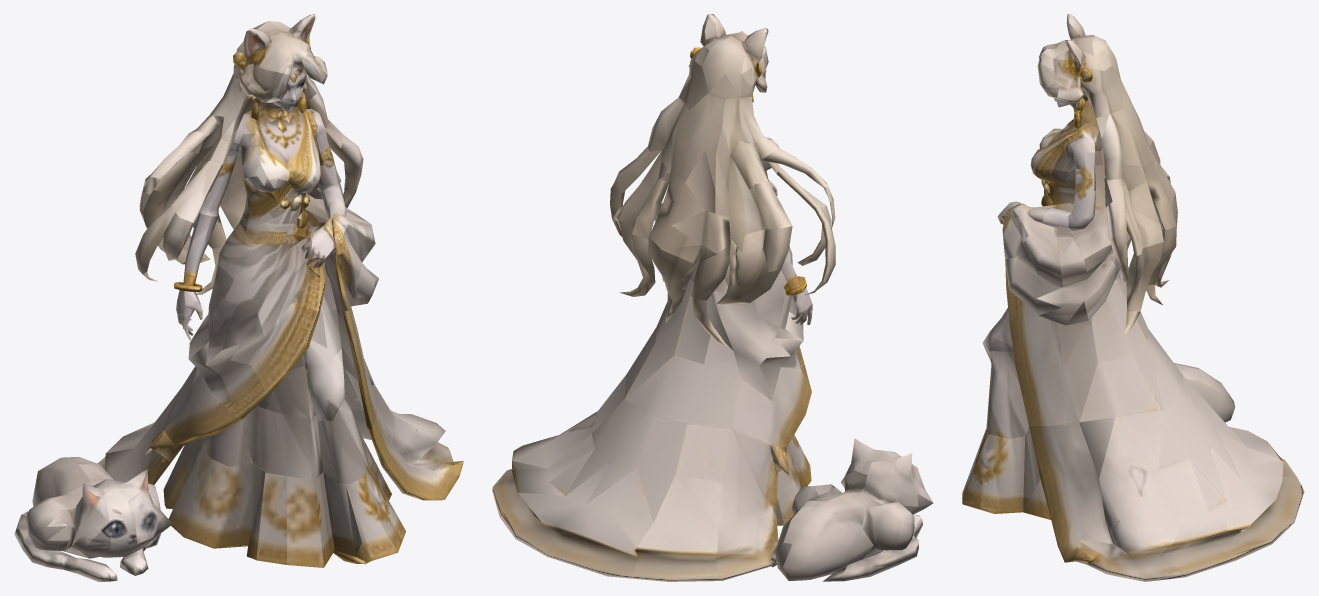
The model's file is webtood.glb.
3 views of the same model, side by side, from view 1: azimuth 30°, elevation 25°; view 2: azimuth 150°, elevation 25°; view 3: azimuth 270°, elevation 25° (orthographic). The views are drawn at different scales.
Parts seen in each view (by area): view 1: mesh_node; view 2: mesh_node; view 3: mesh_node.
Boxes of the visible parts, x1,y1,x2,y2 form: mesh_node: [14, 14, 463, 581]; mesh_node: [492, 14, 933, 581]; mesh_node: [962, 14, 1304, 581].
Bounding box in the file's own units: 0.877 × 1 × 0.666.
1 material, 1 textured.
